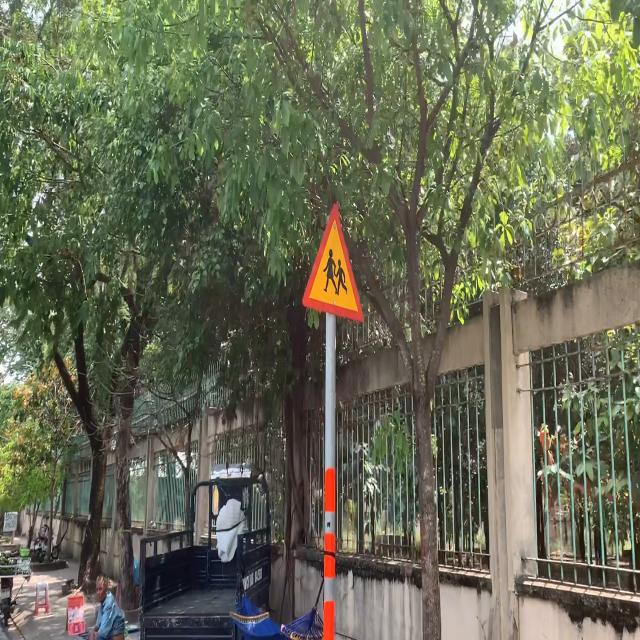Nguy hiem: (300, 200, 366, 326)
